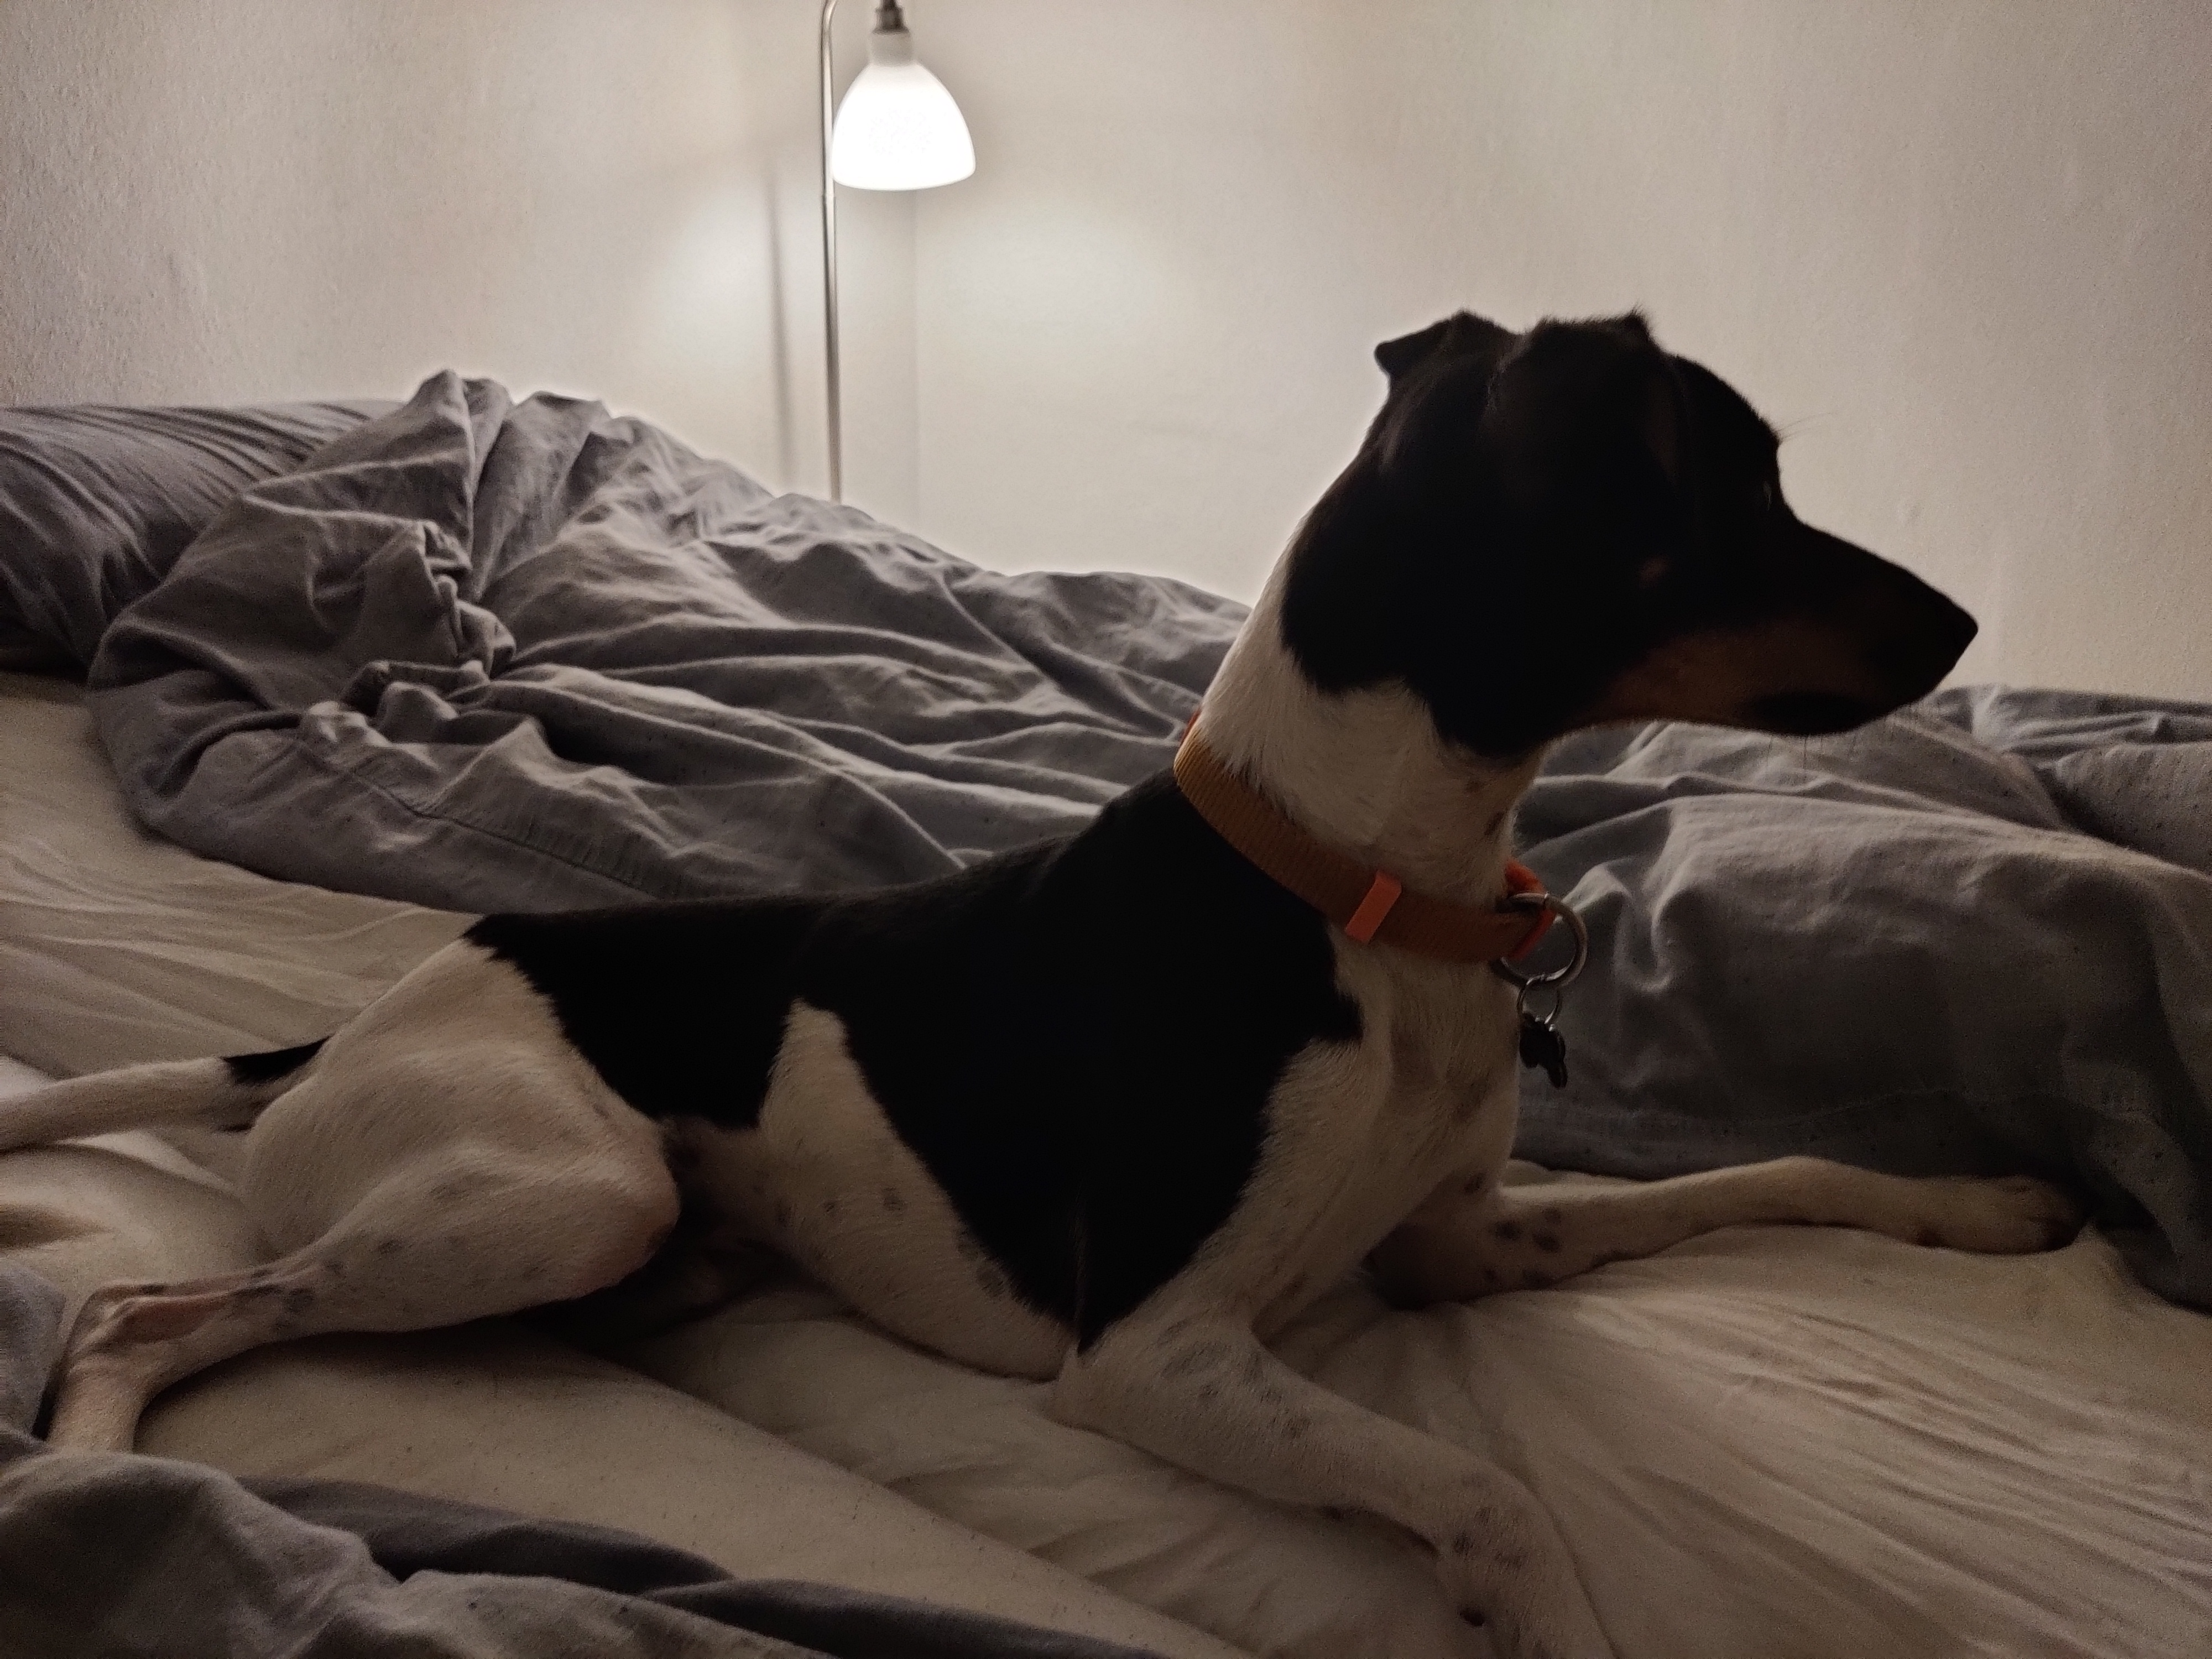Dog: (0, 295, 2123, 1638)
